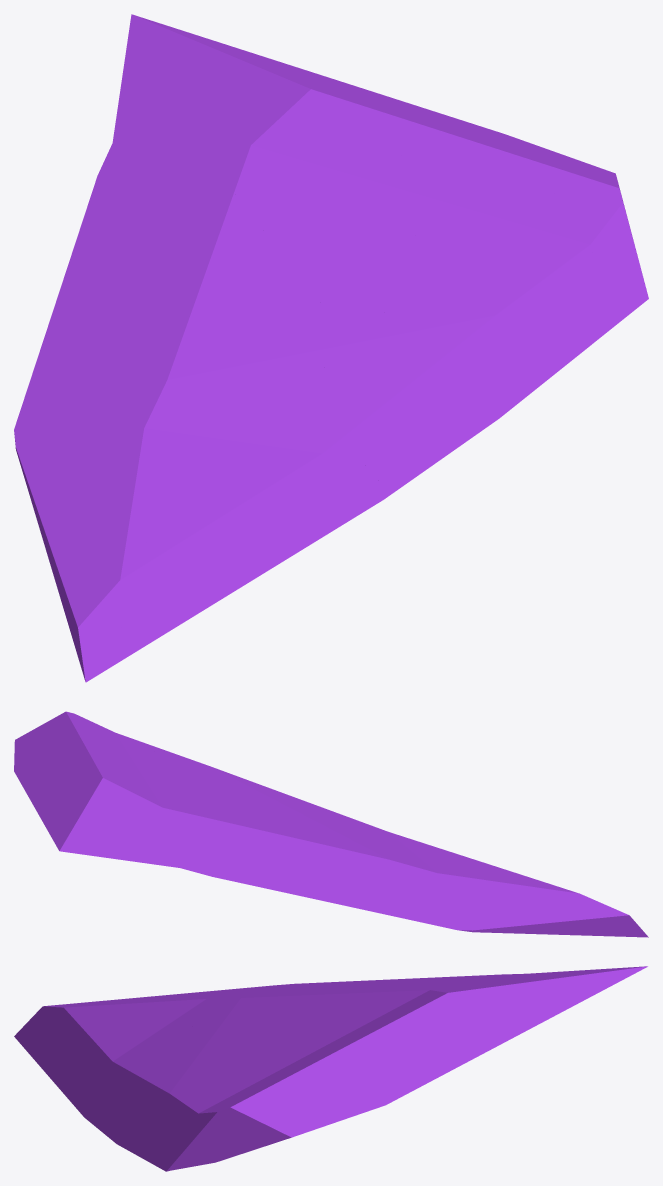
File: Glass_101_2_0_chunks.fbx
3 renders of one model, top to bottom at view 1: azimuth 30°, elevation 25°; view 2: azimuth 150°, elevation 25°; view 3: azimuth 270°, elevation 25°, orthographic. The views are drawn at different scales.
Visible parts, largest first — view 1: Glass_101_2_0_1, Glass_101_2_0_3, Glass_101_2_0_0, Glass_101_2_0_9, Glass_101_2_0_7, Glass_101_2_0_2, Glass_101_2_0_5, Glass_101_2_0_4, Glass_101_2_0_8; view 2: Glass_101_2_0_1, Glass_101_2_0_3, Glass_101_2_0_0, Glass_101_2_0_4, Glass_101_2_0_5, Glass_101_2_0_2, Glass_101_2_0_9, Glass_101_2_0_7, Glass_101_2_0_8; view 3: Glass_101_2_0_4, Glass_101_2_0_3, Glass_101_2_0_7, Glass_101_2_0_9, Glass_101_2_0_1, Glass_101_2_0_2, Glass_101_2_0_0, Glass_101_2_0_5, Glass_101_2_0_8.
Boxes of the visible parts, <box> form: Glass_101_2_0_1: <box>33,117,329,425</box>; Glass_101_2_0_3: <box>116,14,412,268</box>; Glass_101_2_0_0: <box>14,373,245,682</box>; Glass_101_2_0_9: <box>323,309,584,494</box>; Glass_101_2_0_7: <box>117,428,390,658</box>; Glass_101_2_0_2: <box>293,227,623,349</box>; Glass_101_2_0_5: <box>383,120,599,274</box>; Glass_101_2_0_4: <box>387,96,648,318</box>; Glass_101_2_0_8: <box>215,320,325,449</box>; Glass_101_2_0_1: <box>156,809,434,917</box>; Glass_101_2_0_3: <box>28,757,248,864</box>; Glass_101_2_0_0: <box>375,843,648,937</box>; Glass_101_2_0_4: <box>14,711,103,796</box>; Glass_101_2_0_5: <box>79,727,179,783</box>; Glass_101_2_0_2: <box>149,745,272,812</box>; Glass_101_2_0_9: <box>204,764,367,826</box>; Glass_101_2_0_7: <box>366,824,581,894</box>; Glass_101_2_0_8: <box>281,811,426,857</box>; Glass_101_2_0_4: <box>158,1034,468,1171</box>; Glass_101_2_0_3: <box>296,966,647,1060</box>; Glass_101_2_0_7: <box>23,1007,157,1118</box>; Glass_101_2_0_9: <box>86,1039,237,1159</box>; Glass_101_2_0_1: <box>193,972,548,1039</box>; Glass_101_2_0_2: <box>145,1022,298,1166</box>; Glass_101_2_0_0: <box>14,981,339,1046</box>; Glass_101_2_0_5: <box>183,1028,382,1124</box>; Glass_101_2_0_8: <box>135,1025,233,1057</box>.
Size of the model in its own units: 817 by 325 by 768.
